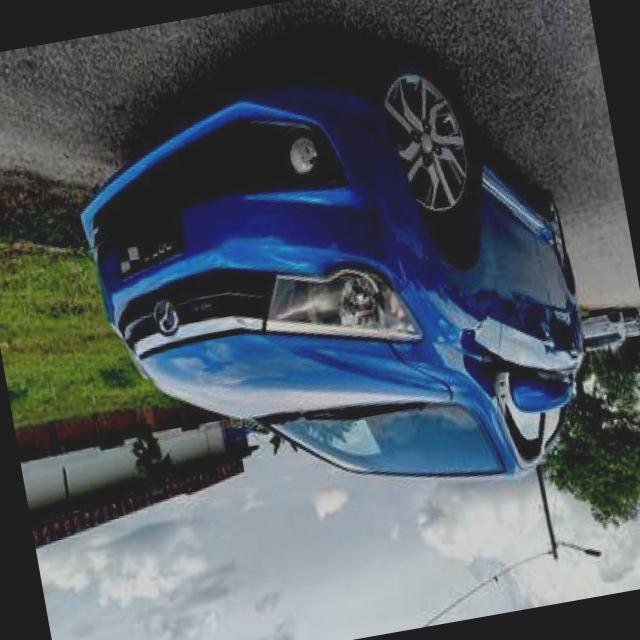PeroduaBezza: (61, 34, 610, 548)
